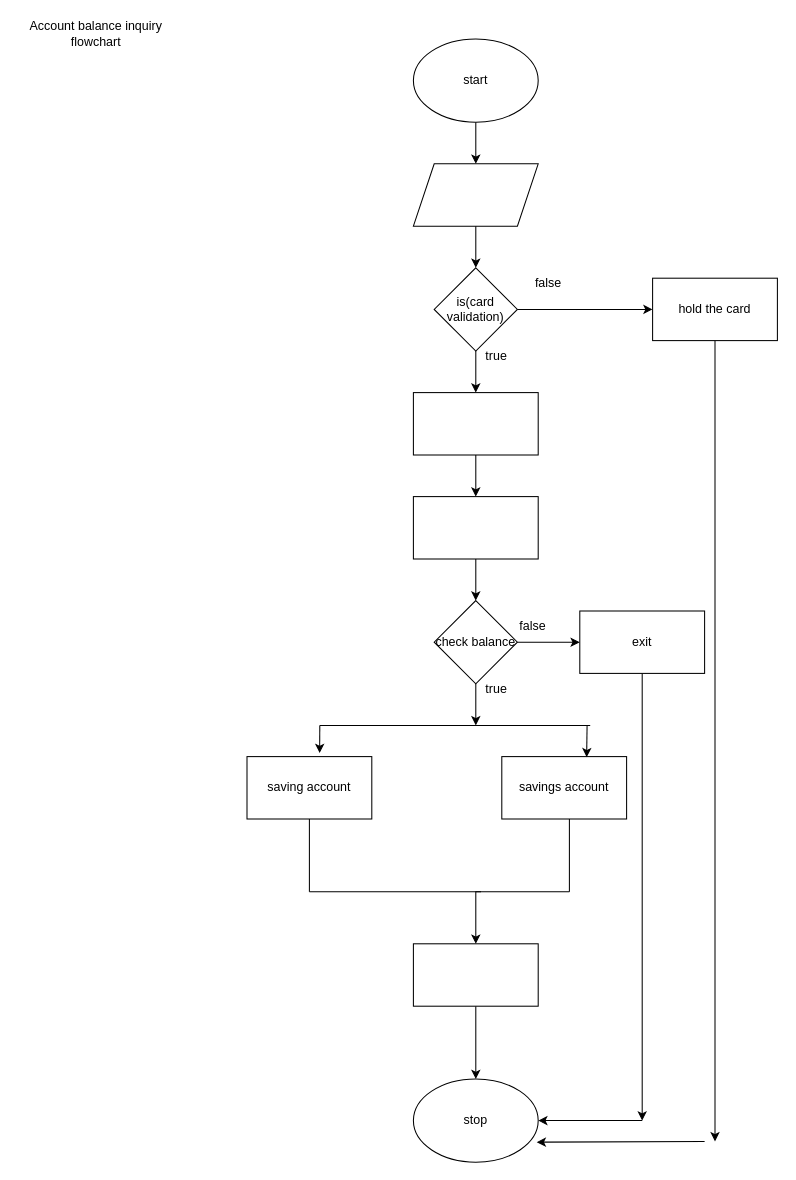
The diagram is 796 pixels wide and 1180 high, and some of its shapes have lost their labels. The centre of each missing label's shape, as x and y in pixels:
"enter pin" goes at point 475,527.
"insert a card" goes at point 475,194.
"select language" goes at point 475,423.
"show balance" goes at point 475,974.
